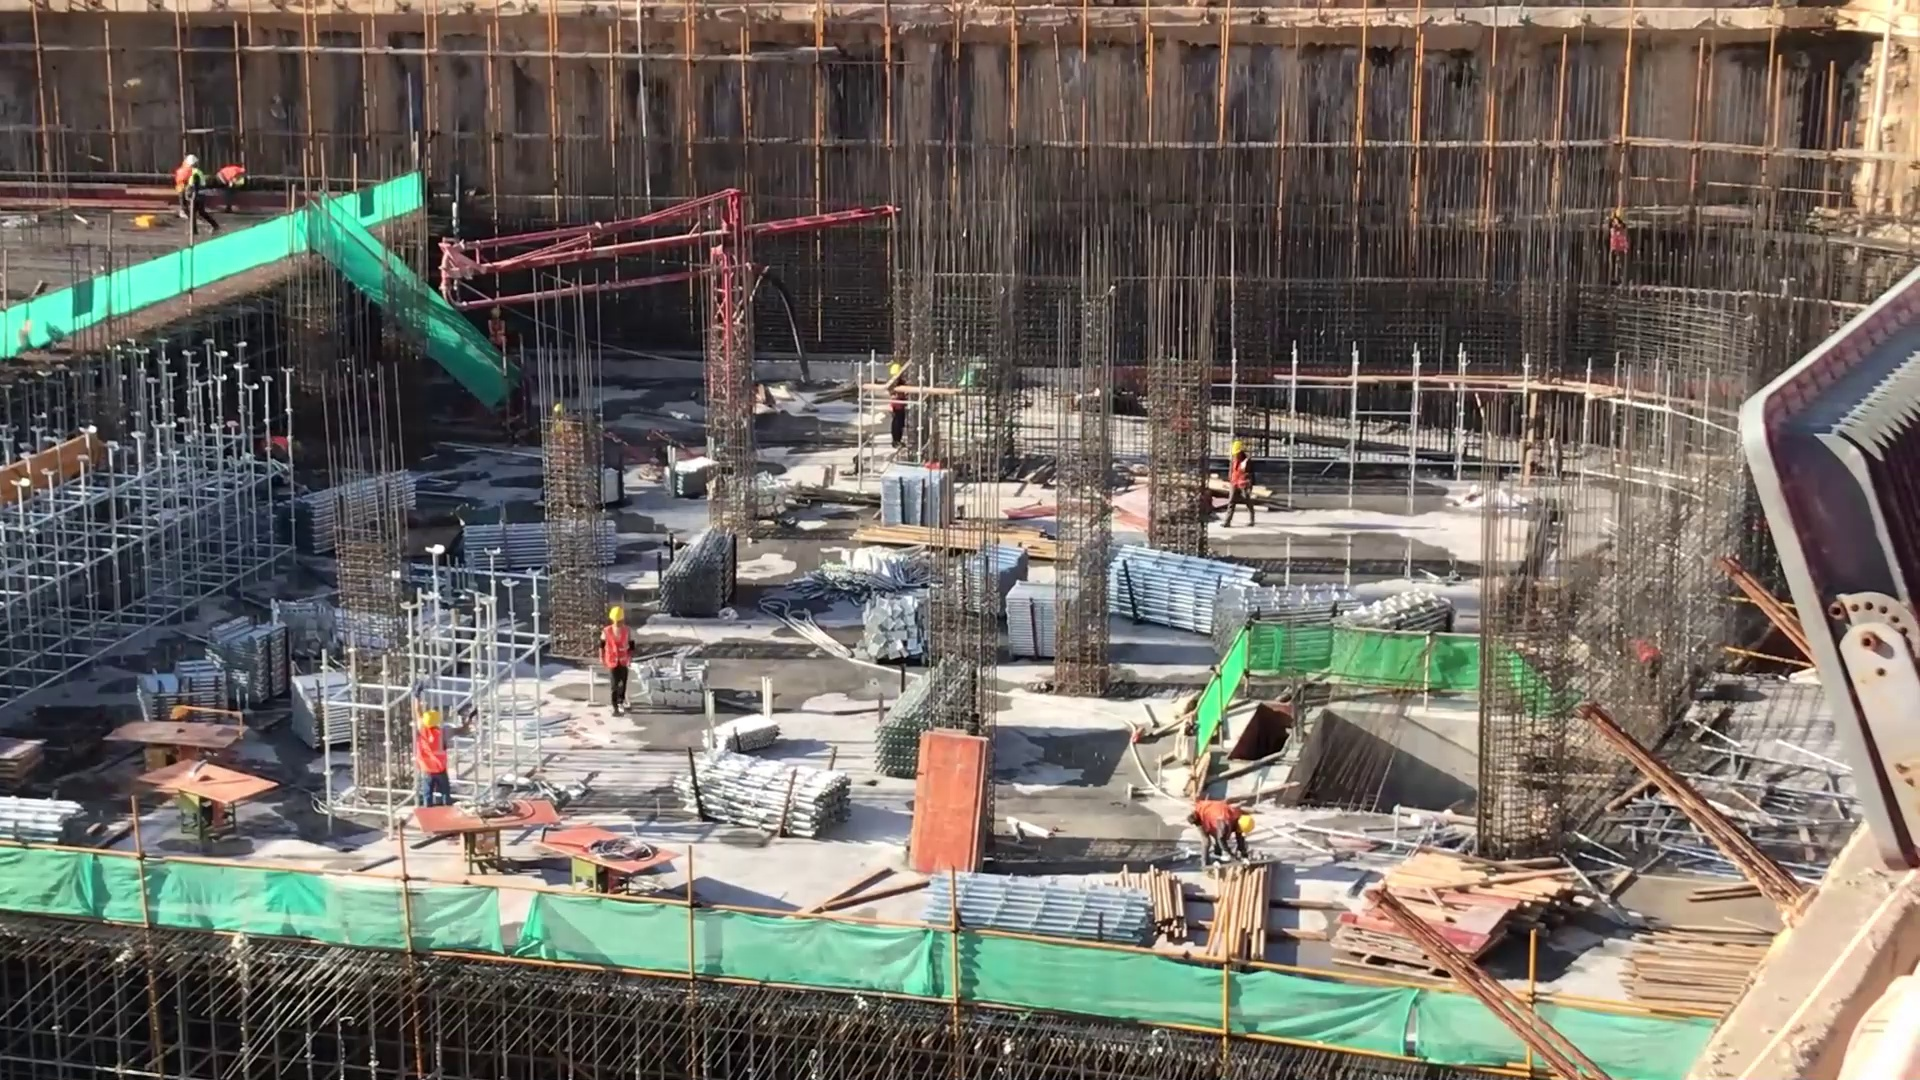board: (1320, 881, 1525, 966), (904, 721, 995, 879), (1, 732, 58, 795)
cutter: (130, 742, 285, 858), (525, 815, 690, 904), (398, 783, 560, 872), (103, 710, 245, 782)
helmet: (418, 710, 445, 732), (885, 361, 909, 384), (1227, 440, 1246, 460), (609, 607, 626, 628), (1238, 814, 1256, 835), (184, 154, 207, 167), (490, 305, 505, 324)
person: (1182, 798, 1252, 880), (595, 598, 636, 727), (410, 704, 454, 826), (875, 346, 919, 463), (1219, 442, 1264, 539), (478, 297, 512, 386), (185, 148, 214, 239), (212, 162, 251, 214)
scaffold: (920, 864, 1167, 952), (675, 746, 848, 852), (280, 458, 430, 564), (1111, 546, 1270, 641), (1211, 573, 1358, 675), (1330, 584, 1450, 698), (449, 515, 639, 586), (130, 656, 245, 737), (651, 535, 746, 629), (287, 663, 375, 761), (206, 615, 298, 706), (1, 798, 107, 863), (953, 545, 1039, 619)
vest: (1188, 798, 1234, 846), (415, 727, 453, 776), (602, 624, 633, 667), (1227, 458, 1253, 494), (185, 170, 210, 201), (216, 162, 245, 187)
wood: (1623, 927, 1804, 1037)
